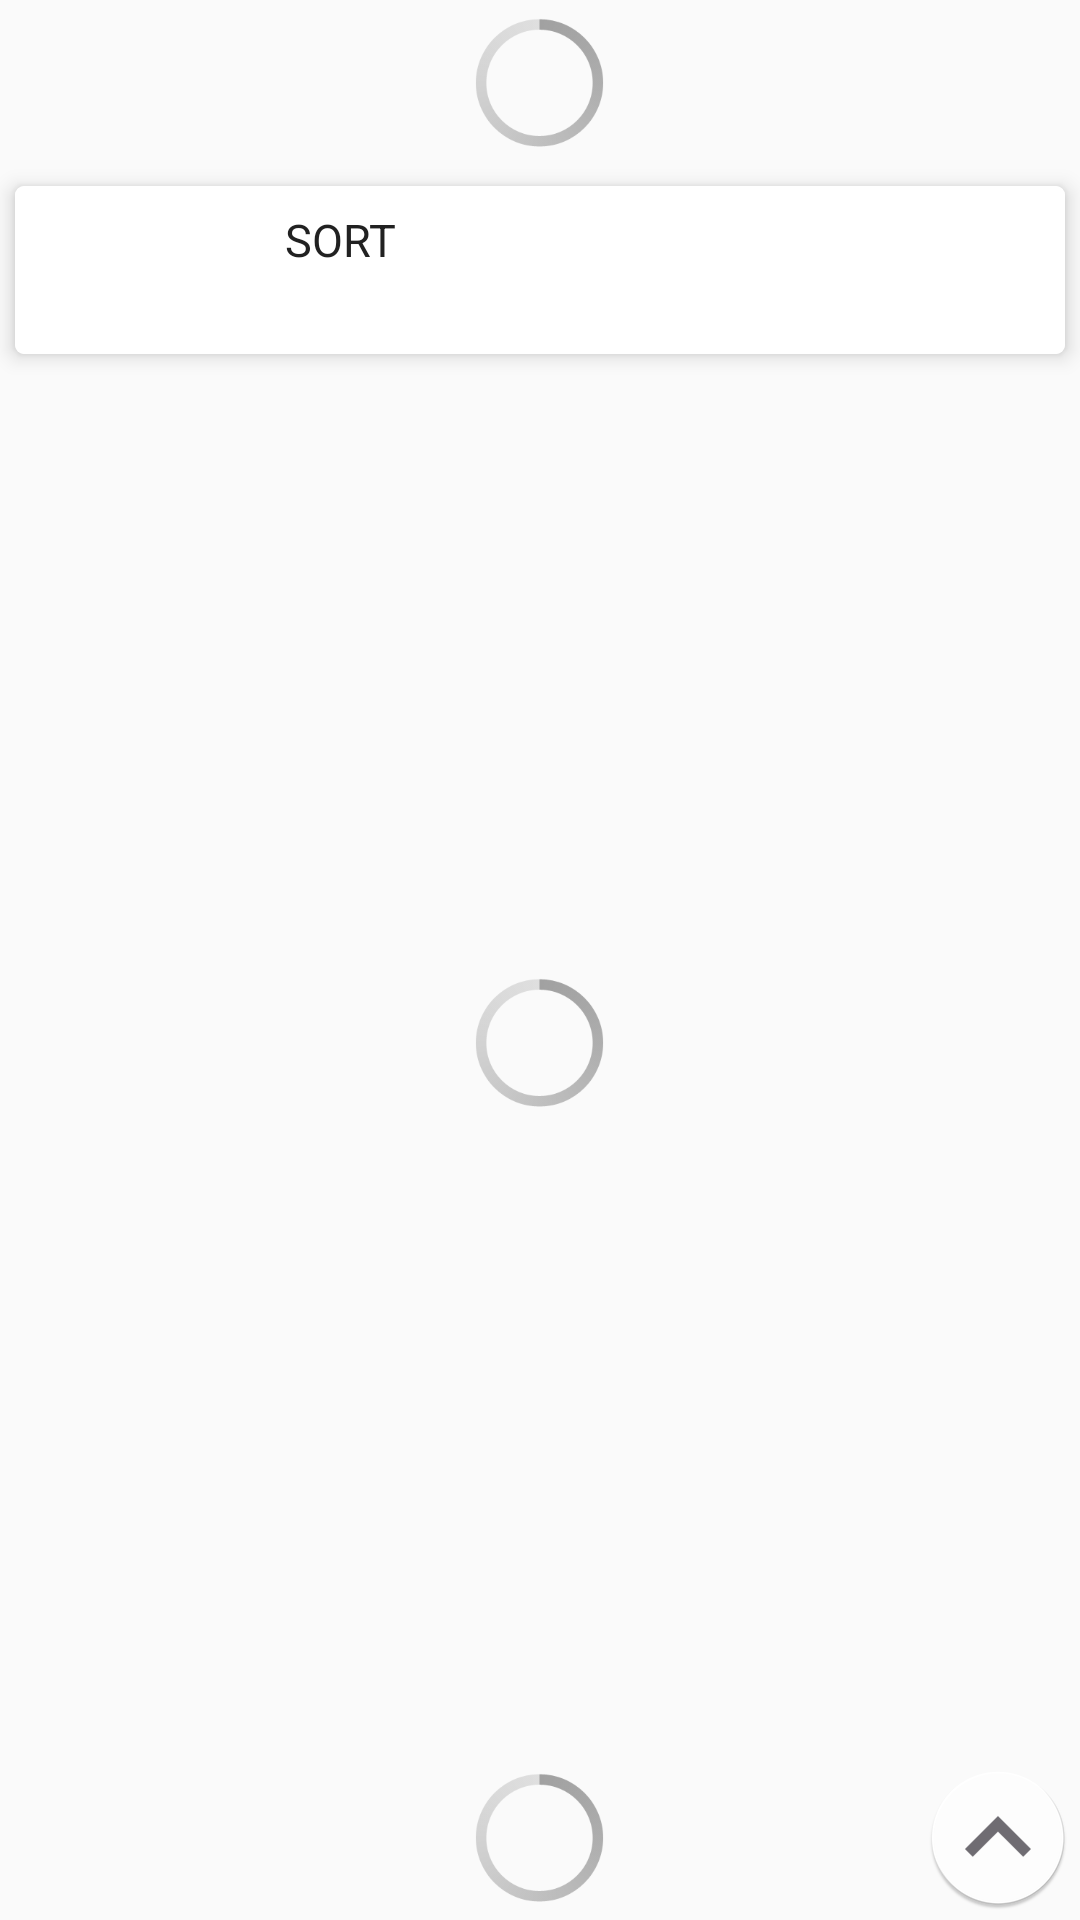

Icons on this 1080×1920 Android screen, each with the point to tap as (x,y):
scroll: (999,1858)
